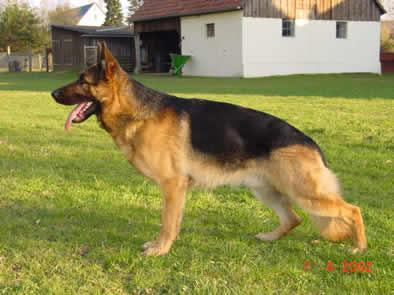German_shepherd: (51, 42, 371, 258)
